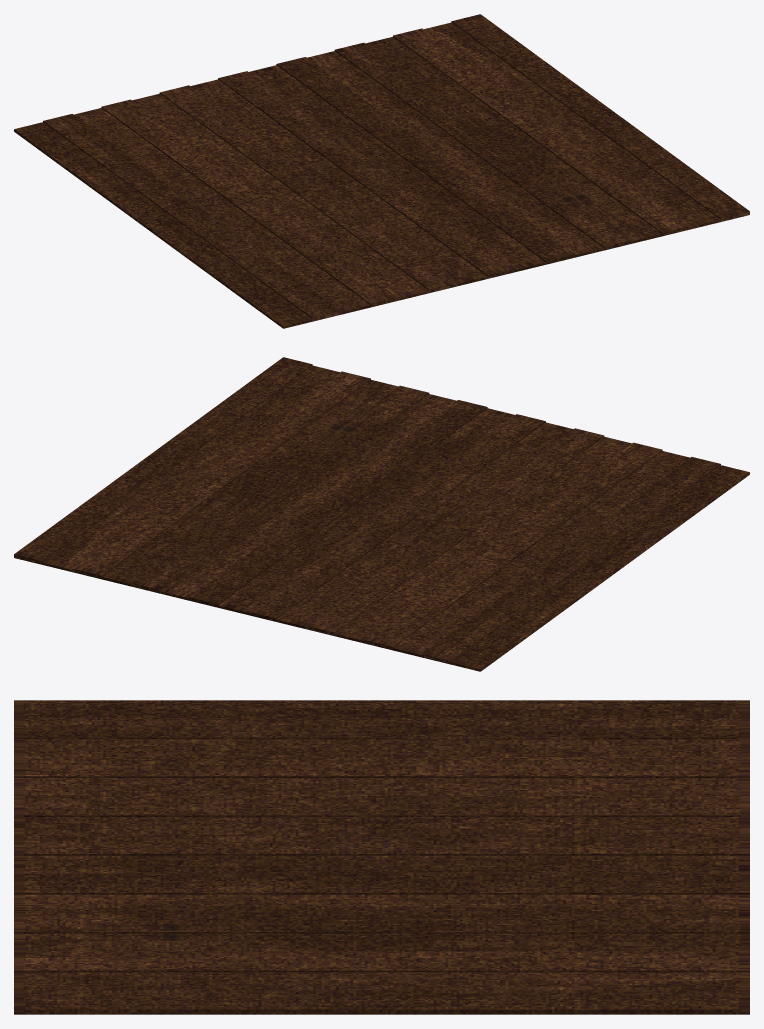
File: floor.fbx
The picture shows the model from 3 angles, top to bottom: view 1: azimuth 30°, elevation 25°; view 2: azimuth 150°, elevation 25°; view 3: azimuth 270°, elevation 25°; orthographic projection. The views are drawn at different scales.
Visible parts, largest first — view 1: floor; view 2: floor; view 3: floor.
Part boxes in pixels (x1,y1,x2,y2): floor: [14, 14, 749, 328]; floor: [14, 357, 749, 671]; floor: [14, 700, 749, 1014].
Size of the model in its own units: 400 by 3 by 400.
